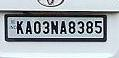0: (32, 19, 41, 33)
3: (41, 20, 49, 33), (76, 20, 84, 33)
5: (93, 19, 102, 33)
8: (67, 20, 75, 33), (85, 20, 93, 33)
A: (24, 19, 32, 33), (59, 19, 66, 33)
K: (15, 19, 24, 33)
N: (49, 19, 58, 34)
